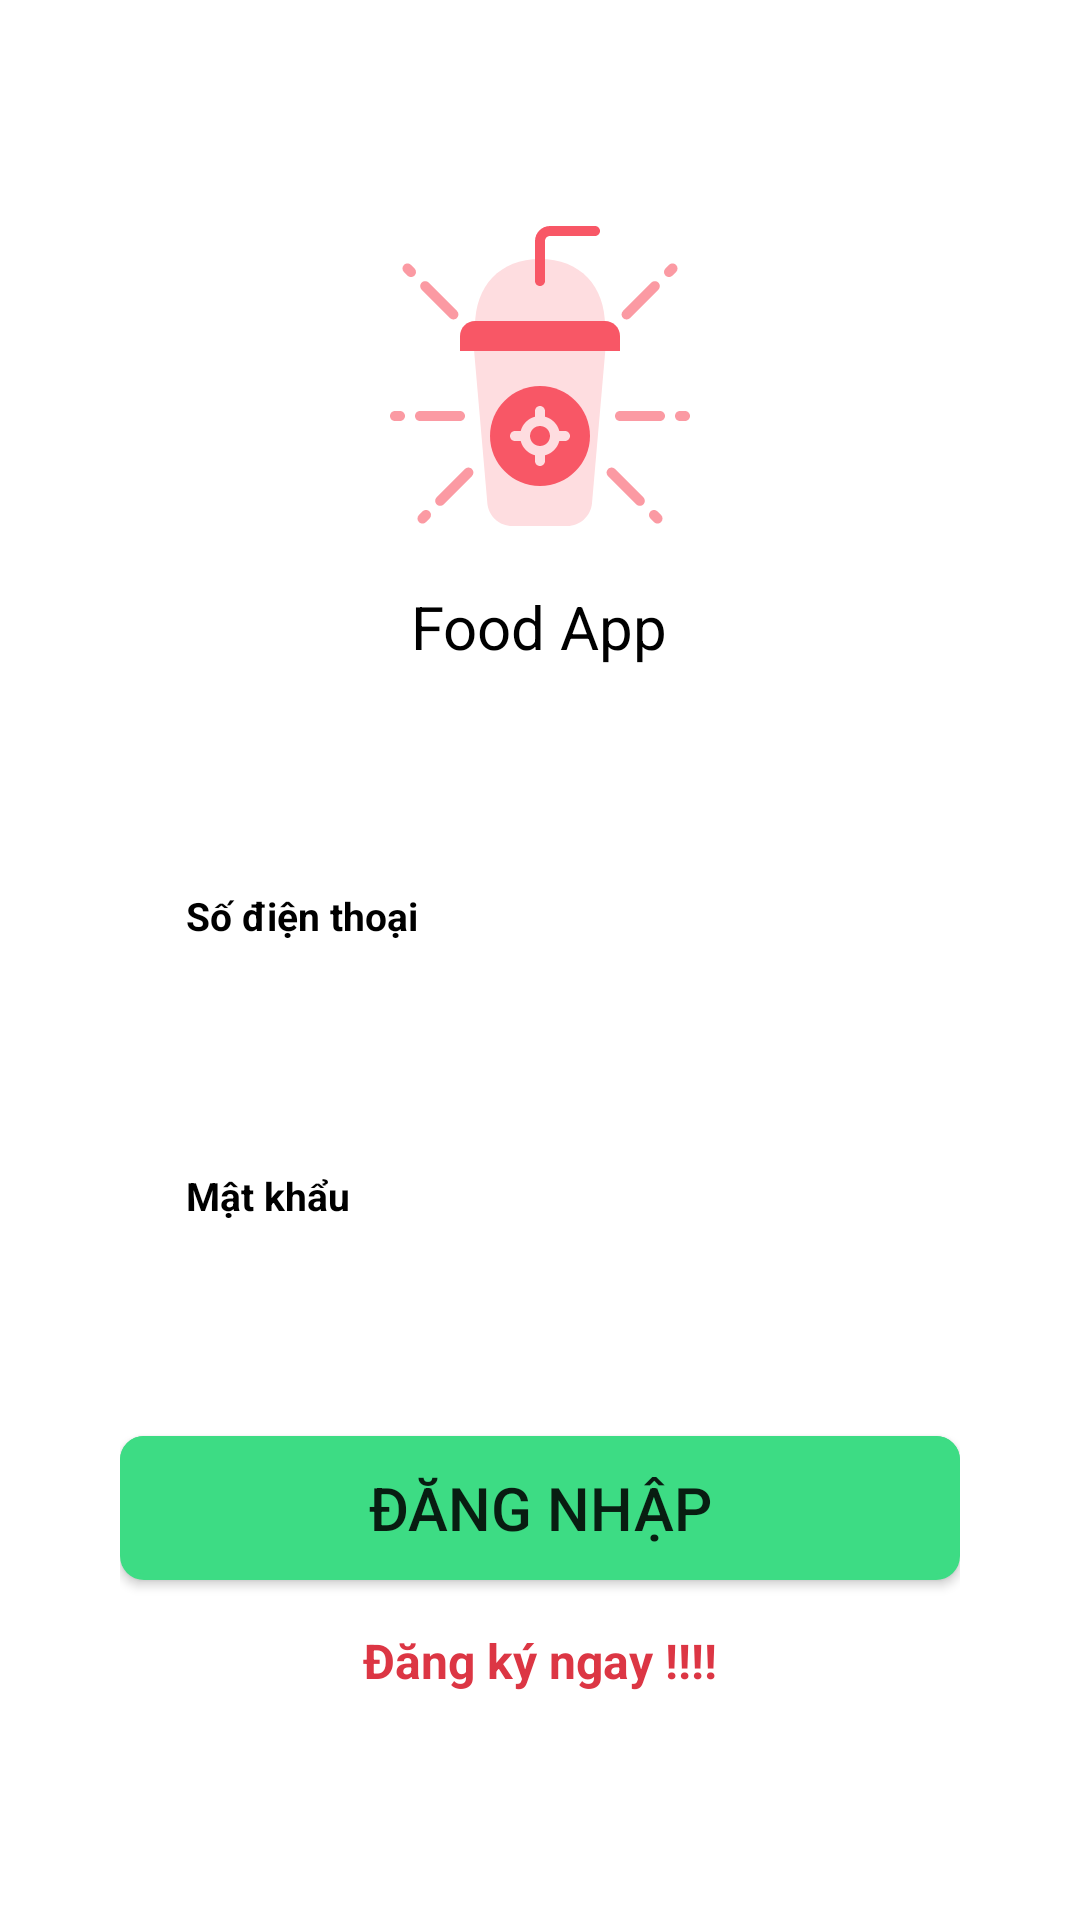

Where to tap for icons on this 1080px x 1920px app screen, as (x,y):
beverage drink: (540,376)
